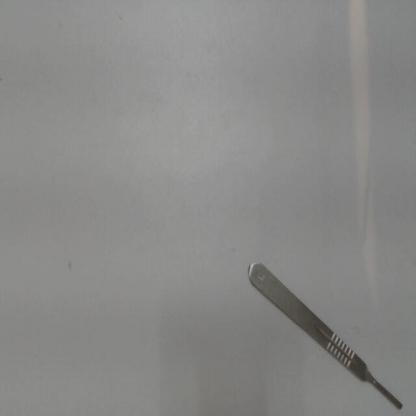No.4 BP Handle: (240, 246, 407, 414)
